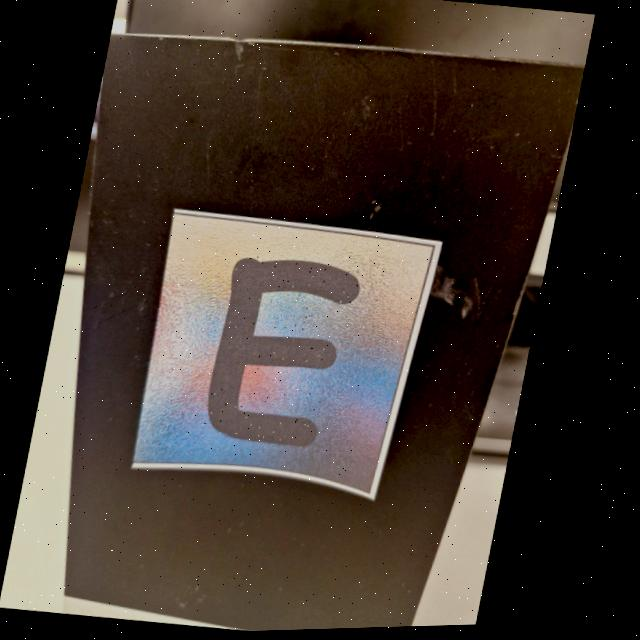E: (212, 258, 363, 445)
